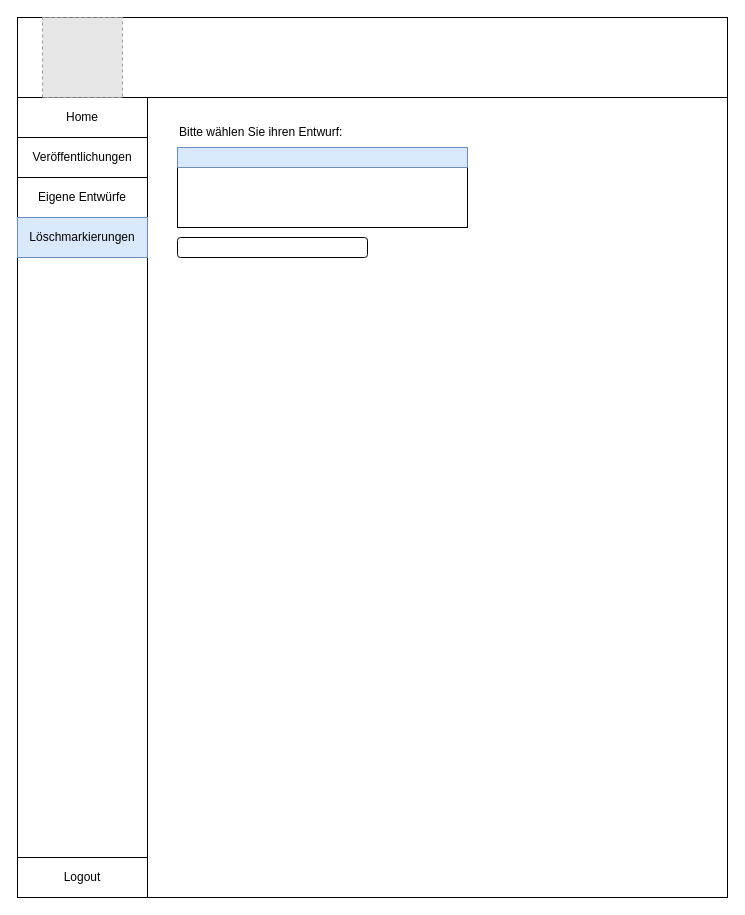
Some shapes in this 745 by 915 pixel diagram are drawn without their labels. Grey dashed boxes stand in for pictures. Each missing label, with the box of its shape:
Example GmbH 1: (176, 146, 468, 168)
Löschantrag zurücknehmen: (176, 236, 368, 258)
Platzhalter für Logo: (16, 16, 728, 98)
